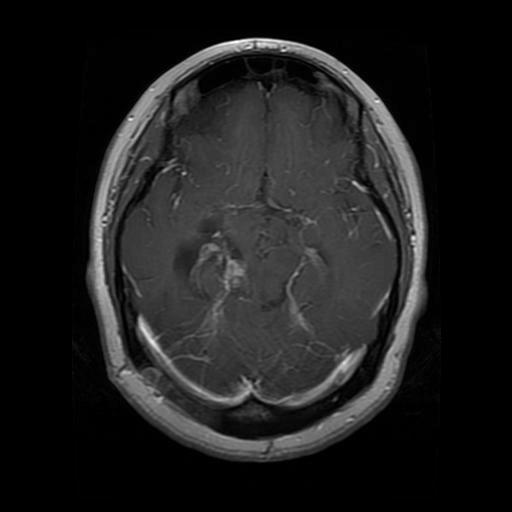Tumour-Glioma: (170, 222, 224, 303)
